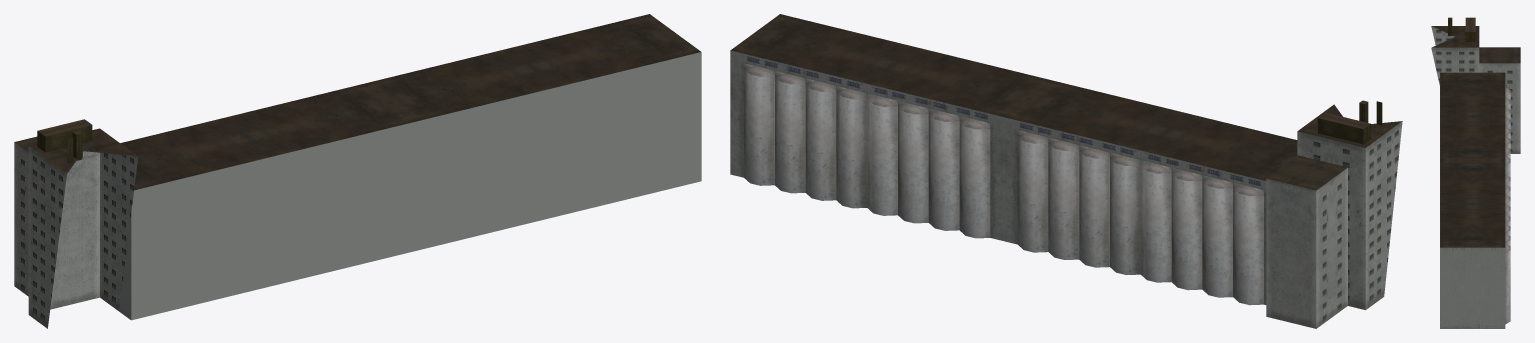
The model's file is factoryHall.glb.
3 views of the same model, side by side, from view 1: azimuth 30°, elevation 25°; view 2: azimuth 150°, elevation 25°; view 3: azimuth 270°, elevation 25° (orthographic). The views are drawn at different scales.
Parts seen in each view (by area): view 1: factoryHall; view 2: factoryHall; view 3: factoryHall.
Boxes of the visible parts, x1=… form: factoryHall: x1=14, y1=14, x2=701, y2=328; factoryHall: x1=730, y1=14, x2=1402, y2=328; factoryHall: x1=1431, y1=17, x2=1520, y2=328.
Bounding box in the file's own units: 135 × 38.87 × 25.97.
1 material, 1 textured.
